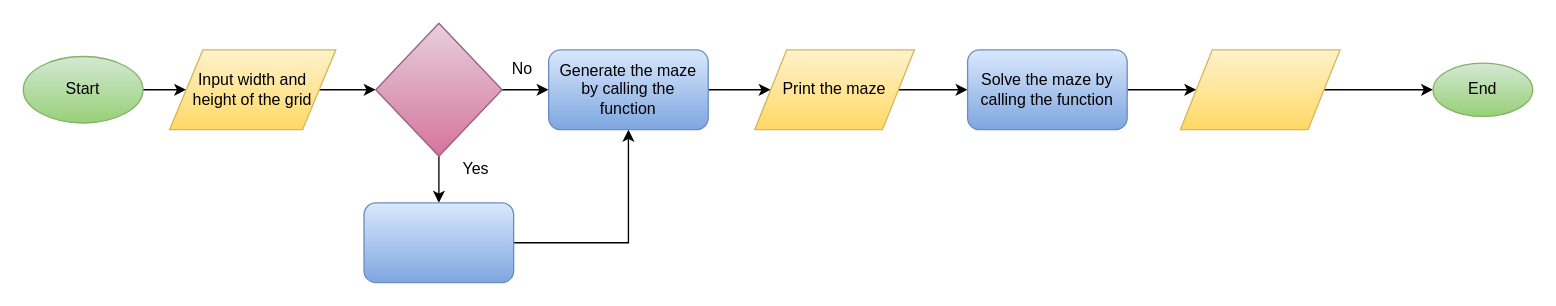
The diagram is 1556 pixels wide and 306 high, and some of its shapes have lost their labels. Each missing label, with the centre of its shape:
"Add a sentinal value to it" belongs at pixel 438 242.
"Is the width or height even?" belongs at pixel 438 89.
"Print the solution of maze" belongs at pixel 1259 89.
